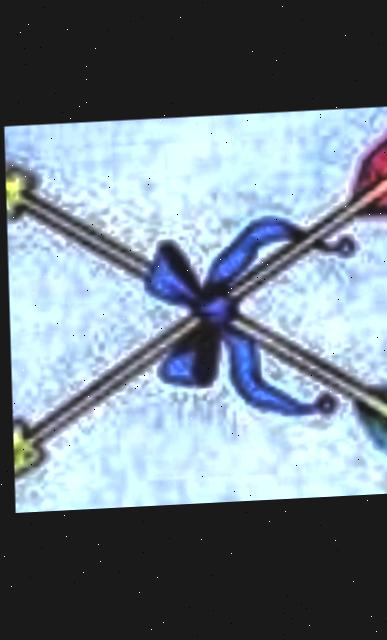Las Jaras: (3, 110, 387, 513)
